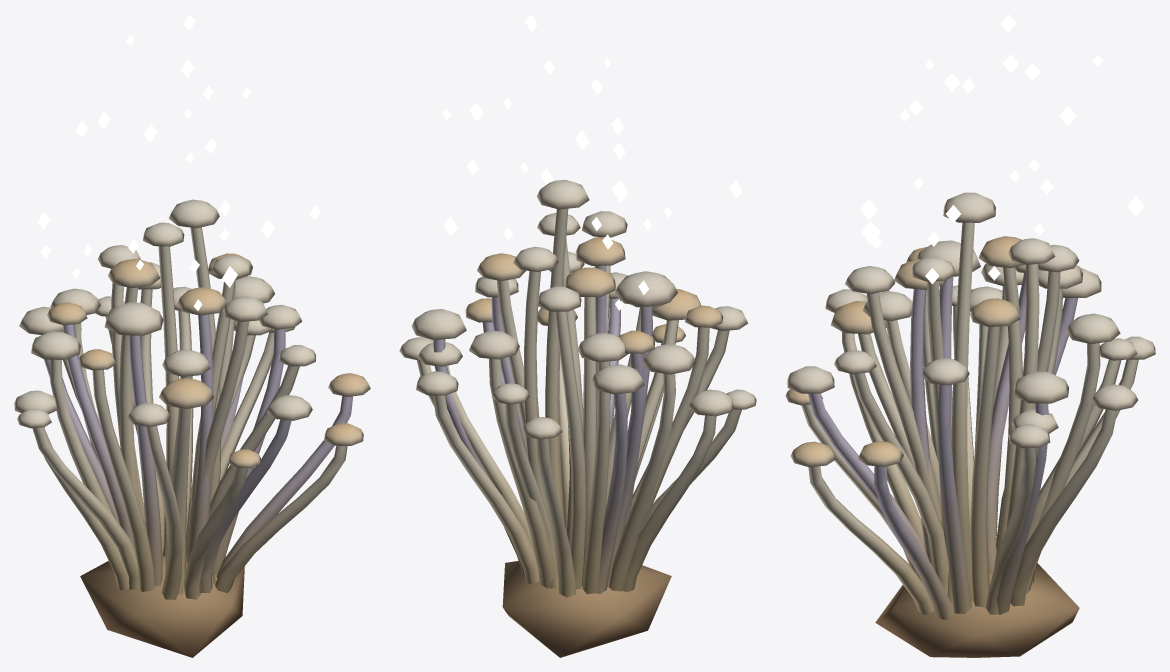
The model's file is enoki_buyuk.glb.
3 views of the same model, side by side, from view 1: azimuth 30°, elevation 25°; view 2: azimuth 150°, elevation 25°; view 3: azimuth 270°, elevation 25° (orthographic). The views are drawn at different scales.
Parts seen in each view (by area): view 1: enoki_buyuk_LOD0, enoki_buyuk_spor; view 2: enoki_buyuk_LOD0, enoki_buyuk_spor; view 3: enoki_buyuk_LOD0, enoki_buyuk_spor.
Boxes of the visible parts, x1=… form: enoki_buyuk_LOD0: x1=14, y1=199, x2=370, y2=657; enoki_buyuk_spor: x1=37, y1=14, x2=320, y2=310; enoki_buyuk_LOD0: x1=399, y1=179, x2=756, y2=657; enoki_buyuk_spor: x1=442, y1=14, x2=742, y2=310; enoki_buyuk_LOD0: x1=785, y1=192, x2=1155, y2=657; enoki_buyuk_spor: x1=860, y1=14, x2=1144, y2=284.
Size of what is drawn, in the model's own units: 0.8486 by 1.57 by 0.7963.
